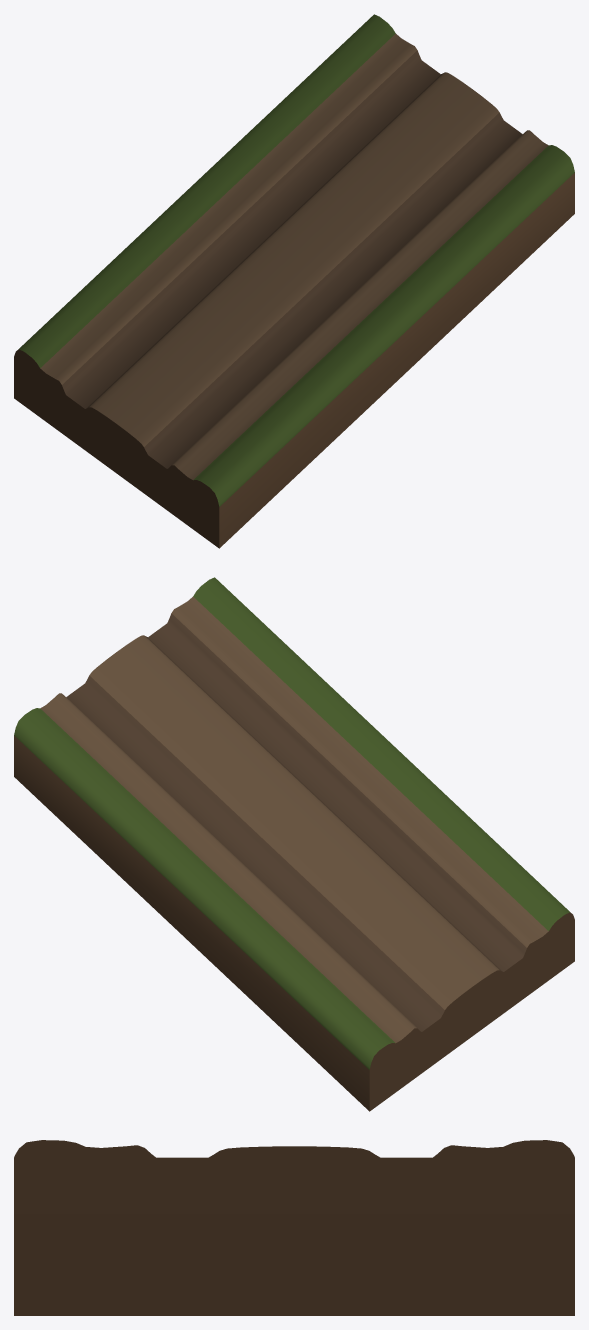
3 renders of one model, top to bottom at view 1: azimuth 30°, elevation 25°; view 2: azimuth 150°, elevation 25°; view 3: azimuth 270°, elevation 25°, orthographic. The views are drawn at different scales.
Visible parts, largest first — view 1: b3o; view 2: b3o; view 3: b3o.
Part boxes in pixels (x1,y1,x2,y2): b3o: (14,14,574,548); b3o: (14,577,574,1111); b3o: (14,1140,574,1315).
Bounding box in the file's own units: 9 × 7.31 × 9.
